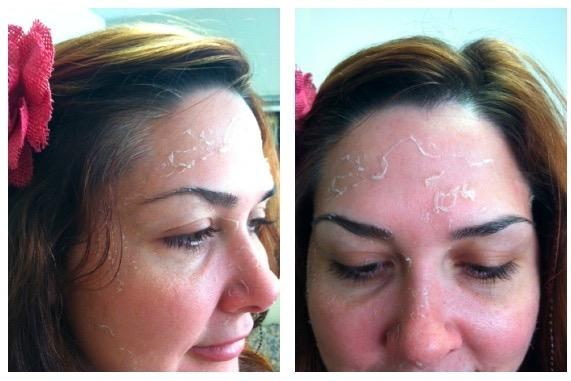Dry-Skin: (371, 127, 444, 201), (464, 132, 514, 216), (123, 257, 173, 326), (209, 113, 250, 178), (228, 256, 273, 311), (410, 281, 451, 340), (349, 160, 381, 222), (165, 112, 191, 179), (351, 313, 388, 356)
